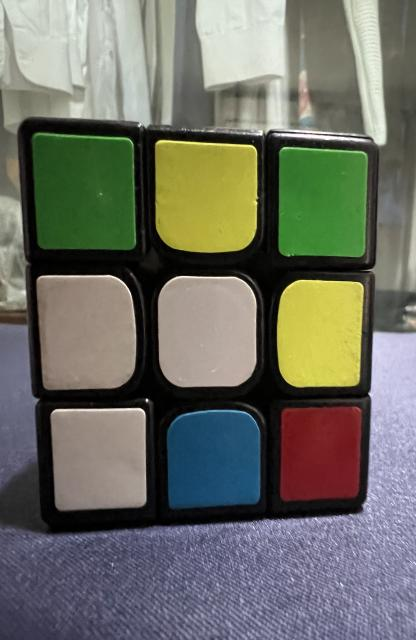Blue: (167, 410, 261, 509)
Green: (31, 132, 136, 250), (278, 146, 368, 258)
Red: (280, 406, 362, 501)
White: (37, 275, 136, 390), (158, 276, 257, 388), (50, 408, 146, 511)
Yellow: (155, 140, 258, 252), (276, 280, 364, 388)
